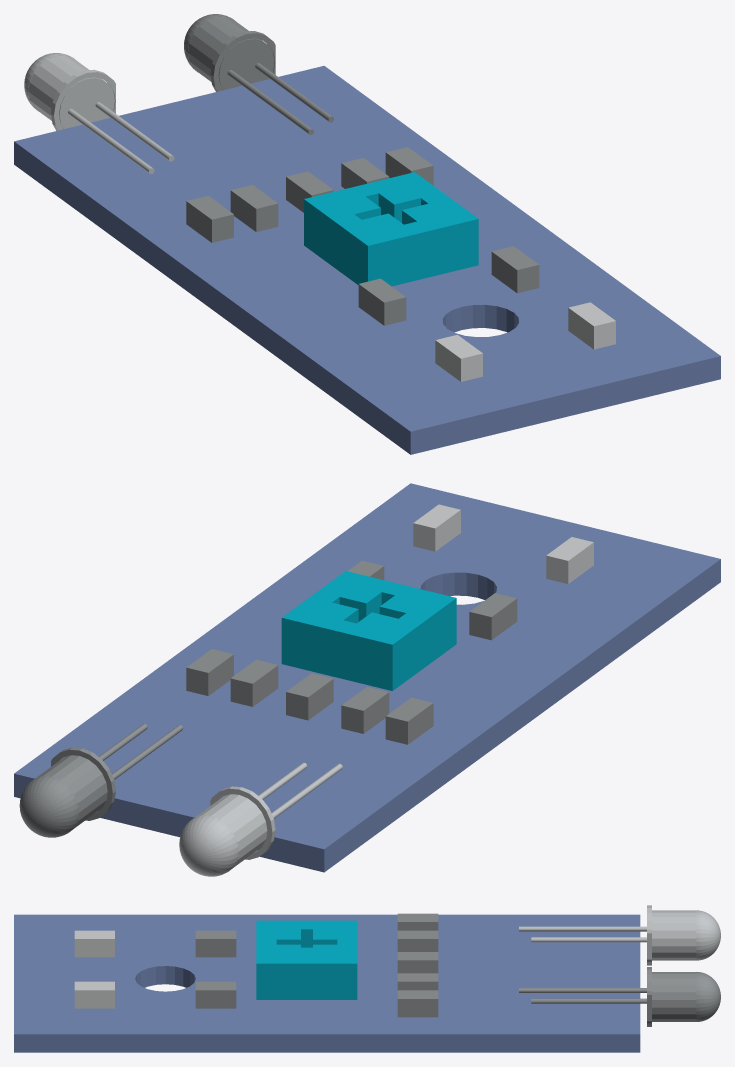
Rendered from ir_sensor.glb.
The picture shows the model from 3 angles, top to bottom: view 1: azimuth 30°, elevation 25°; view 2: azimuth 150°, elevation 25°; view 3: azimuth 270°, elevation 25°; orthographic projection. The views are drawn at different scales.
Parts seen in each view (by area): view 1: Mesh_Mesh_head_geo.001_lambert2SG.001; view 2: Mesh_Mesh_head_geo.001_lambert2SG.001; view 3: Mesh_Mesh_head_geo.001_lambert2SG.001.
Part boxes in pixels (x1=…): Mesh_Mesh_head_geo.001_lambert2SG.001: x1=14, y1=14, x2=720, y2=454; Mesh_Mesh_head_geo.001_lambert2SG.001: x1=14, y1=483, x2=720, y2=876; Mesh_Mesh_head_geo.001_lambert2SG.001: x1=14, y1=905, x2=720, y2=1052.
Size of the model in its own units: 14 by 3 by 35.
